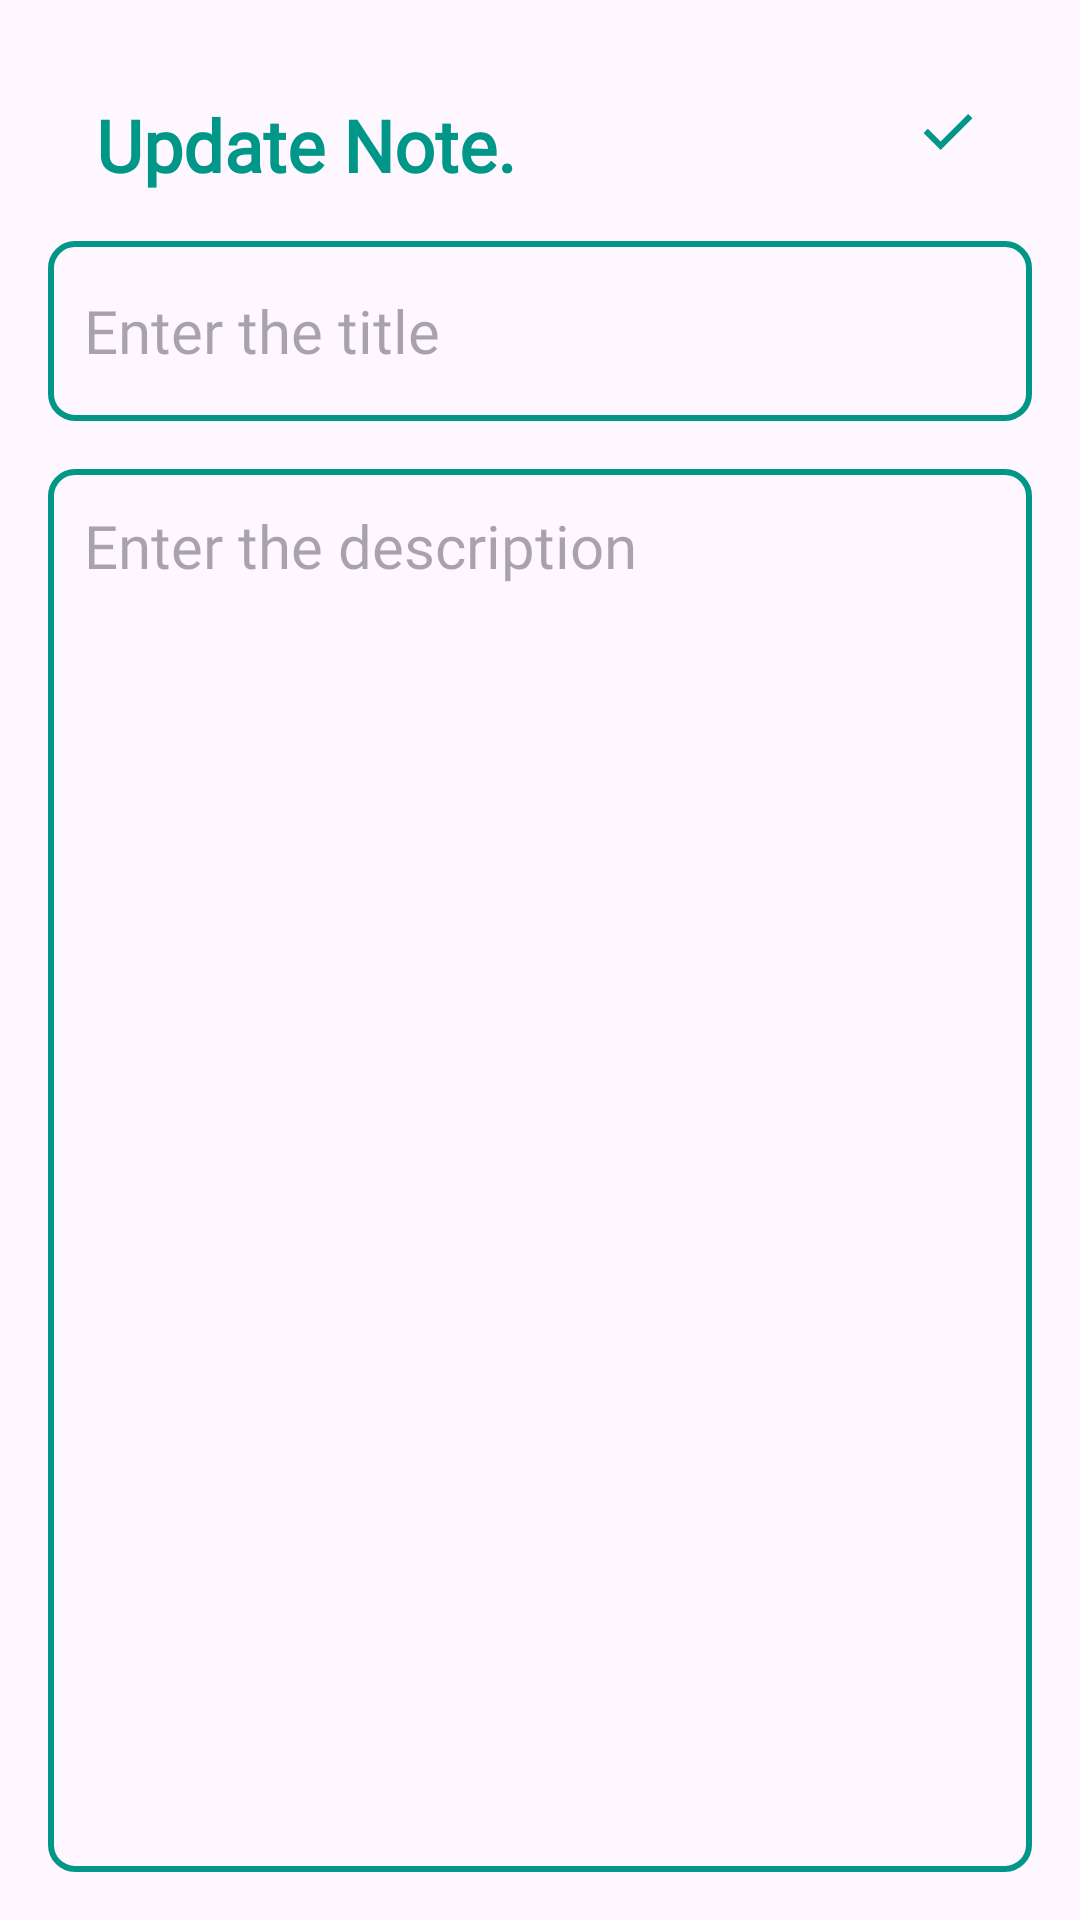

Screen size 1080px×1920px. Icon name, then its center in pixels as (x,y):
done: (948,132)
